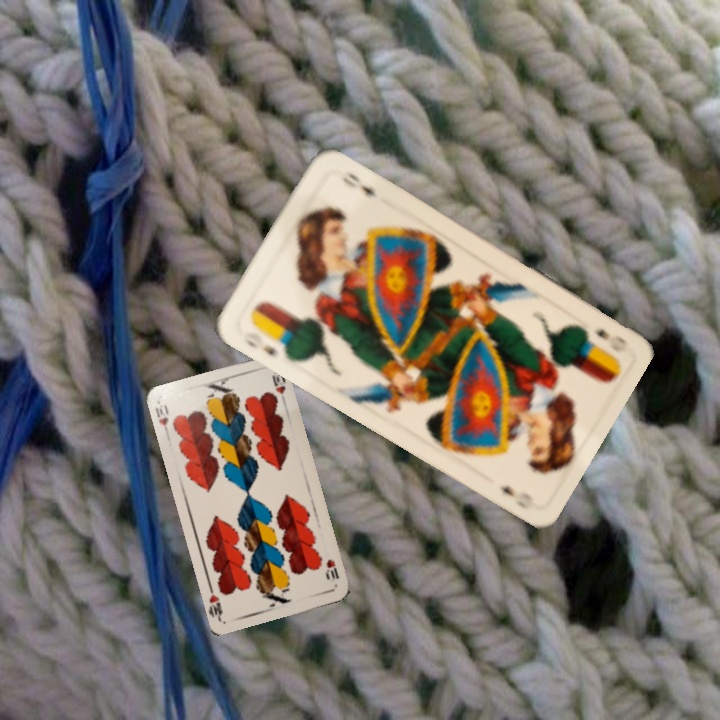EO: (591, 325, 631, 355), (258, 335, 290, 360)
H10: (151, 399, 172, 439), (322, 555, 342, 582)
